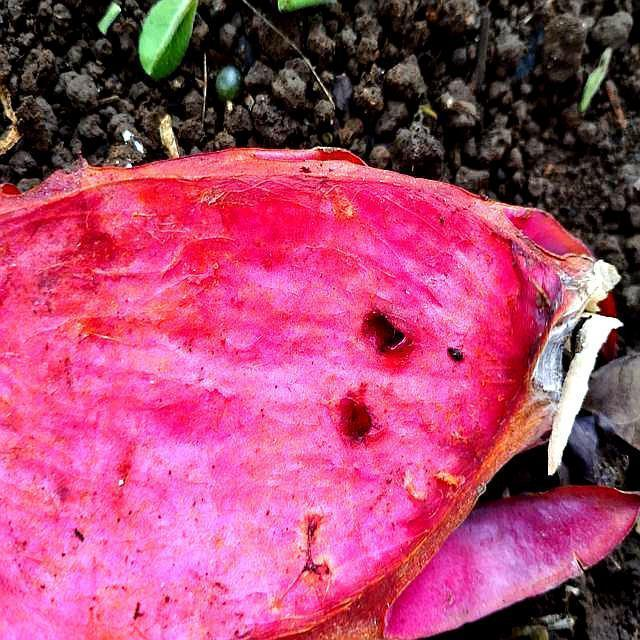Biodegradable: (1, 143, 611, 637)
